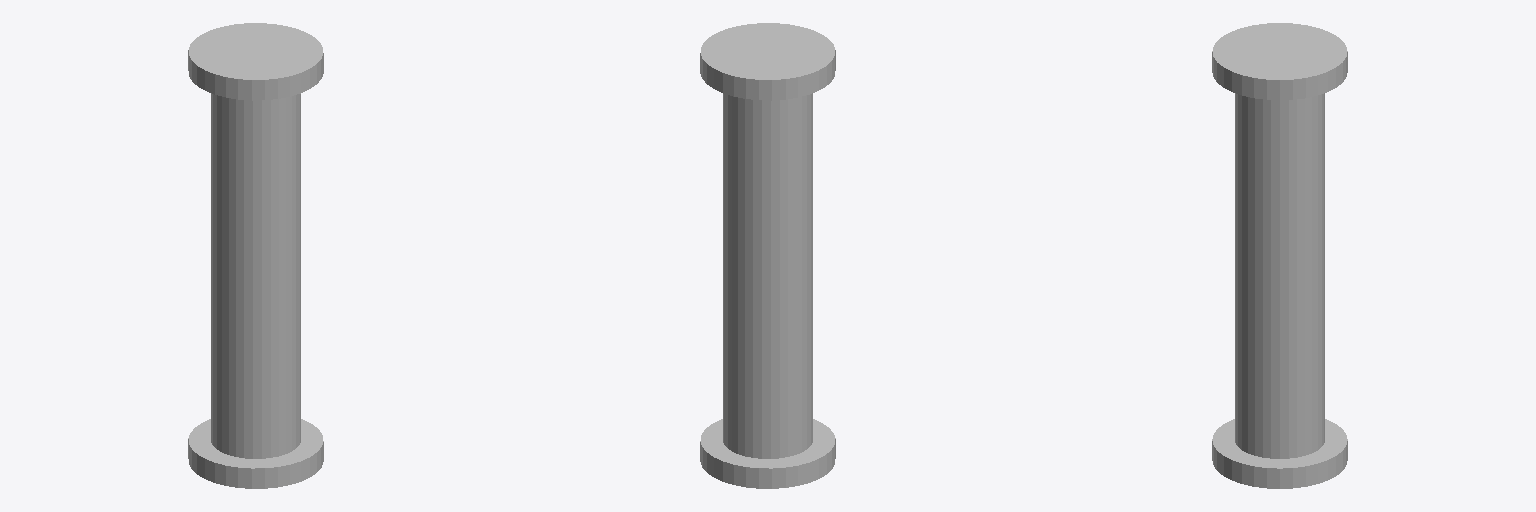
Rendered from pipe_i.obj.
The picture shows the model from 3 angles: view 1: azimuth 30°, elevation 25°; view 2: azimuth 150°, elevation 25°; view 3: azimuth 270°, elevation 25°; orthographic projection.
Visible parts, largest first — view 1: Cylinder; view 2: Cylinder; view 3: Cylinder.
Boxes of the visible parts, x1,y1,x2,y2 form: Cylinder: [188, 23, 323, 488]; Cylinder: [700, 23, 835, 488]; Cylinder: [1212, 23, 1347, 488].
Bounding box in the file's own units: 0.6 × 2 × 0.6.